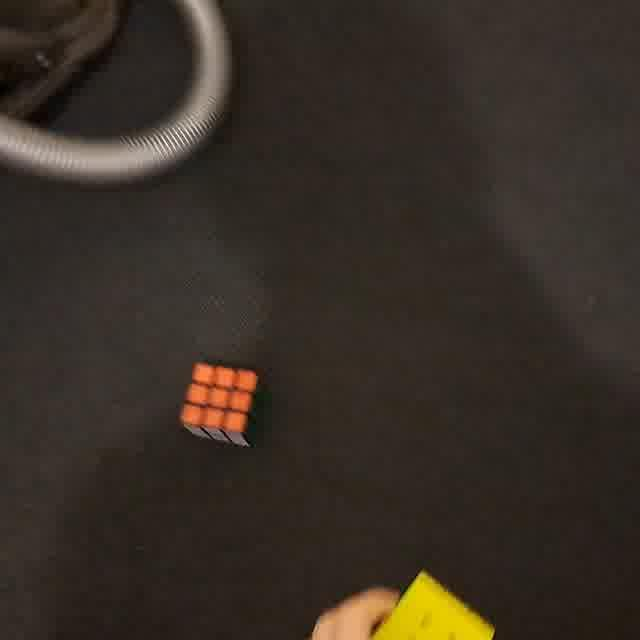rubix_cube: (364, 566, 502, 640), (177, 357, 270, 461)
